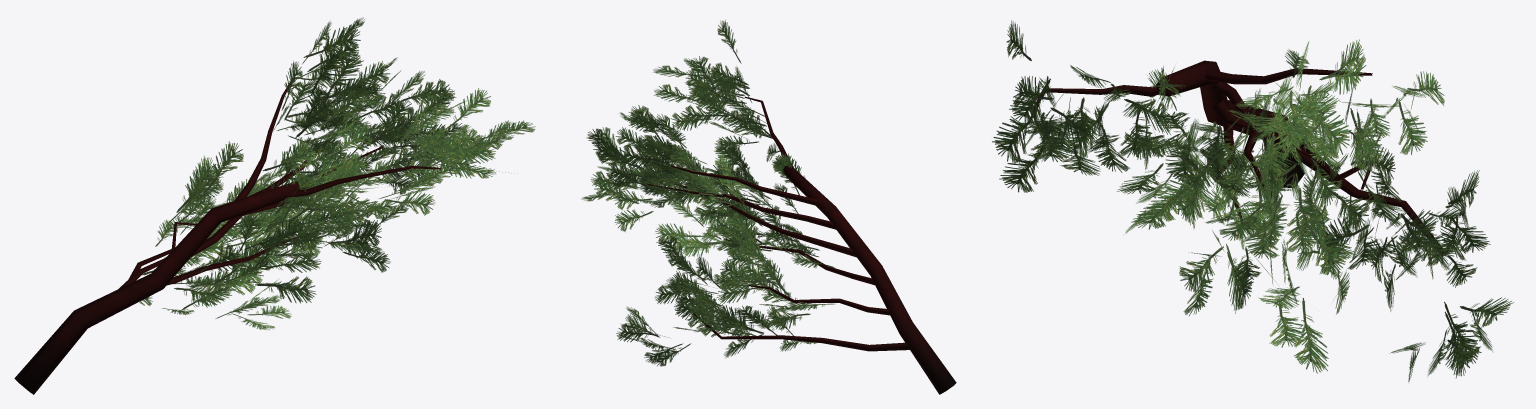
The model's file is krummholz_pine_v02_LOD2.glb.
3 renders of one model, left to right at view 1: azimuth 30°, elevation 25°; view 2: azimuth 150°, elevation 25°; view 3: azimuth 270°, elevation 25°, orthographic. The views are drawn at different scales.
Visible parts, largest first — view 1: krummholz_pine_v02_LOD2; view 2: krummholz_pine_v02_LOD2; view 3: krummholz_pine_v02_LOD2.
Boxes of the visible parts, bbox=[...] form: krummholz_pine_v02_LOD2: bbox=[14, 17, 535, 394]; krummholz_pine_v02_LOD2: bbox=[581, 20, 956, 394]; krummholz_pine_v02_LOD2: bbox=[992, 20, 1513, 382].
Size of the model in its own units: 3.96 by 2.63 by 2.89.
2 materials, 2 textured.
